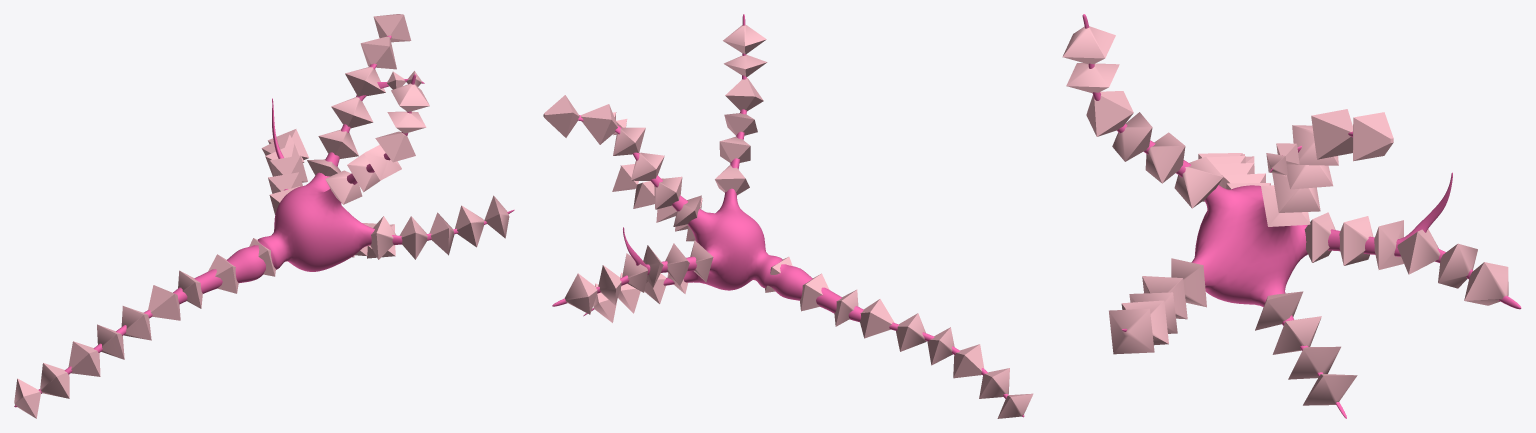
Rendered from neuron.obj.
3 renders of one model, left to right at view 1: azimuth 30°, elevation 25°; view 2: azimuth 150°, elevation 25°; view 3: azimuth 270°, elevation 25°, orthographic. The views are drawn at different scales.
Parts seen in each view (by area): view 1: empty_8, empty_68, empty_74, empty_18, empty_66, empty_42, empty_60, empty_36, empty_48, empty_26, empty_4, empty_72 (+15 smaller); view 2: empty_8, empty_18, empty_74, empty_60, empty_68, empty_2, empty_72, empty_66, empty_36, empty_48, empty_32, empty_26 (+17 smaller); view 3: empty_8, empty_16, empty_18, empty_60, empty_48, empty_2, empty_56, empty_32, empty_40, empty_26, empty_30, empty_76 (+18 smaller).
Boxes of the visible parts, left/top/right/bottom form: empty_8: left=14, top=35, right=514, bottom=407; empty_68: left=68, top=341, right=100, bottom=376; empty_74: left=148, top=285, right=180, bottom=320; empty_18: left=360, top=36, right=396, bottom=69; empty_66: left=40, top=363, right=69, bottom=398; empty_42: left=331, top=97, right=373, bottom=128; empty_60: left=373, top=14, right=411, bottom=42; empty_36: left=345, top=67, right=385, bottom=96; empty_48: left=375, top=131, right=415, bottom=162; empty_26: left=318, top=129, right=358, bottom=158; empty_4: left=455, top=205, right=484, bottom=247; empty_72: left=121, top=306, right=151, bottom=340; empty_8: left=552, top=14, right=1024, bottom=417; empty_18: left=581, top=104, right=617, bottom=144; empty_74: left=860, top=299, right=894, bottom=338; empty_60: left=543, top=95, right=579, bottom=137; empty_68: left=953, top=344, right=984, bottom=378; empty_2: left=565, top=273, right=597, bottom=314; empty_72: left=896, top=313, right=926, bottom=351; empty_66: left=979, top=368, right=1009, bottom=398; empty_36: left=613, top=127, right=645, bottom=155; empty_48: left=725, top=78, right=763, bottom=111; empty_32: left=723, top=25, right=766, bottom=54; empty_26: left=654, top=176, right=682, bottom=209; empty_8: left=1082, top=14, right=1521, bottom=418; empty_16: left=1109, top=308, right=1154, bottom=354; empty_18: left=1311, top=109, right=1352, bottom=159; empty_60: left=1353, top=112, right=1393, bottom=161; empty_48: left=1086, top=91, right=1133, bottom=136; empty_2: left=1464, top=262, right=1508, bottom=305; empty_56: left=1174, top=157, right=1223, bottom=208; empty_32: left=1062, top=26, right=1115, bottom=64; empty_40: left=1145, top=132, right=1185, bottom=183; empty_26: left=1272, top=173, right=1320, bottom=212; empty_30: left=1438, top=243, right=1477, bottom=288; empty_76: left=1339, top=216, right=1373, bottom=265.
Bounding box in the file's own units: 1.67 × 1.04 × 1.05.
